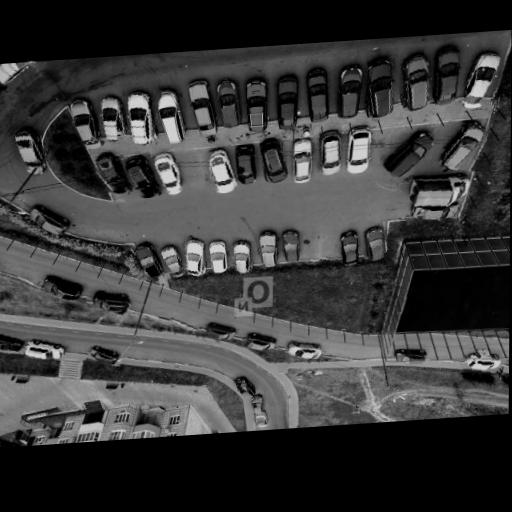busy: (406, 172, 467, 226), (425, 42, 466, 106), (461, 45, 503, 106), (118, 86, 160, 147), (396, 53, 437, 112), (441, 120, 487, 172), (361, 57, 400, 118), (385, 132, 436, 178), (334, 63, 368, 119), (93, 92, 128, 144), (65, 99, 101, 148), (152, 147, 187, 195), (123, 151, 156, 200), (12, 125, 45, 172), (94, 149, 129, 193), (204, 144, 236, 192), (343, 125, 374, 173), (314, 129, 344, 176), (87, 288, 130, 319), (260, 137, 287, 185), (132, 239, 162, 282), (39, 274, 85, 302), (360, 222, 390, 263), (180, 236, 210, 277), (28, 205, 70, 234), (289, 137, 314, 183), (24, 337, 67, 363), (278, 227, 305, 264), (336, 228, 362, 266), (285, 337, 323, 363), (254, 229, 281, 265), (158, 242, 184, 279), (0, 62, 36, 88), (231, 236, 256, 273), (237, 144, 258, 185), (86, 344, 123, 367), (206, 238, 230, 273), (242, 330, 278, 353), (463, 353, 501, 374), (204, 322, 236, 341), (233, 375, 259, 397), (0, 333, 24, 355)
free: (177, 149, 214, 193), (300, 229, 322, 265), (320, 226, 340, 265), (170, 309, 199, 332), (140, 300, 165, 322)
